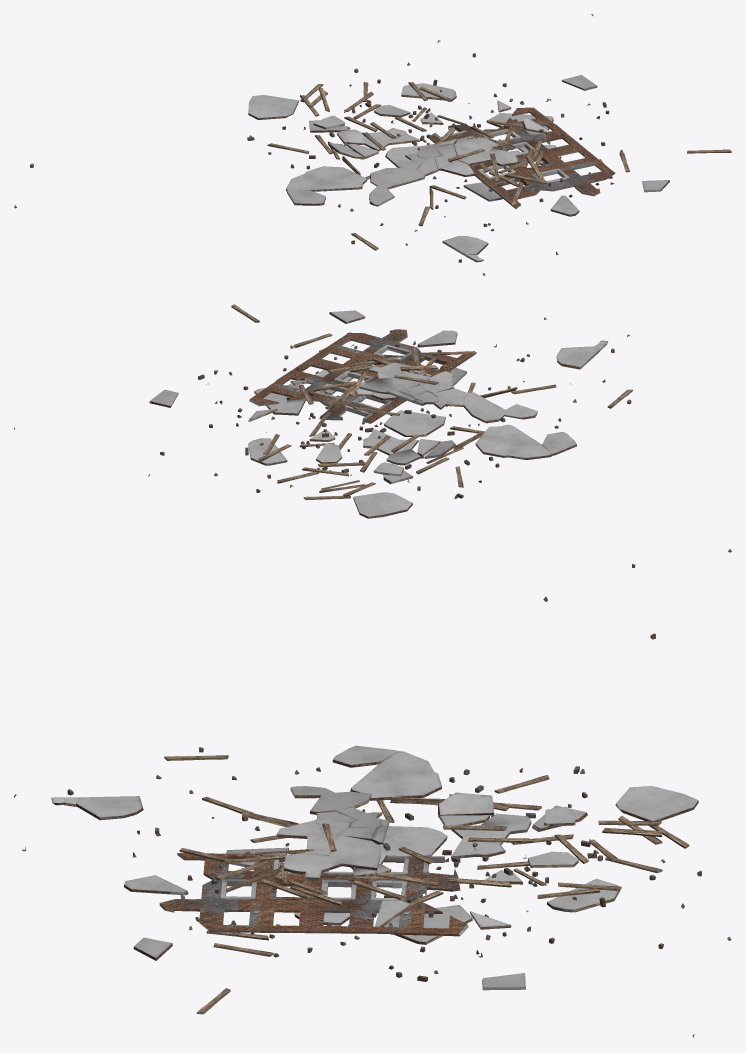
File: Debris_01.fbx
3 renders of one model, top to bottom at view 1: azimuth 30°, elevation 25°; view 2: azimuth 150°, elevation 25°; view 3: azimuth 270°, elevation 25°, orthographic. The views are drawn at different scales.
Visible parts, largest first — view 1: Debris1_LOD0_LOD0_LOD0_LOD0; view 2: Debris1_LOD0_LOD0_LOD0_LOD0; view 3: Debris1_LOD0_LOD0_LOD0_LOD0.
Boxes of the visible parts, left/top/right/bottom form: Debris1_LOD0_LOD0_LOD0_LOD0: left=14, top=14, right=731, bottom=275; Debris1_LOD0_LOD0_LOD0_LOD0: left=14, top=304, right=731, bottom=567; Debris1_LOD0_LOD0_LOD0_LOD0: left=14, top=596, right=731, bottom=1037.
Size of the model in its own units: 1383 by 41.58 by 956.
